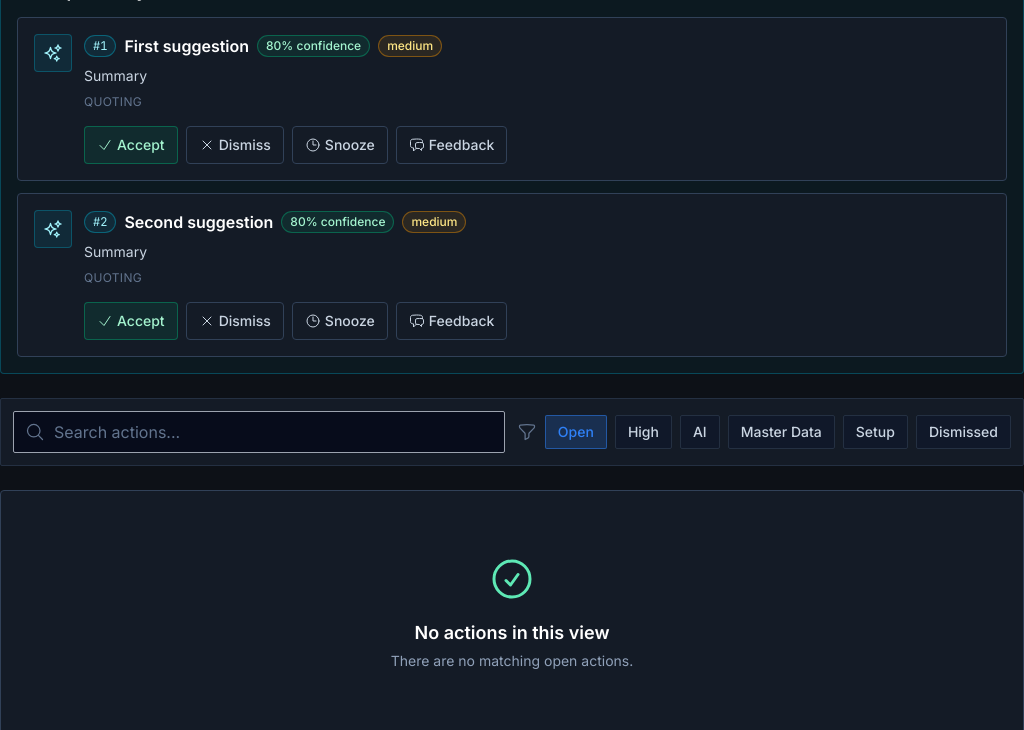
Test: ActionInbox Top 3 hero › hides the hero and folds all recommendations into the queue when the AI filter is active
(page scrolled)
Click the button "AI": x=700, y=432 [680,414,720,448]
(page scrolled)
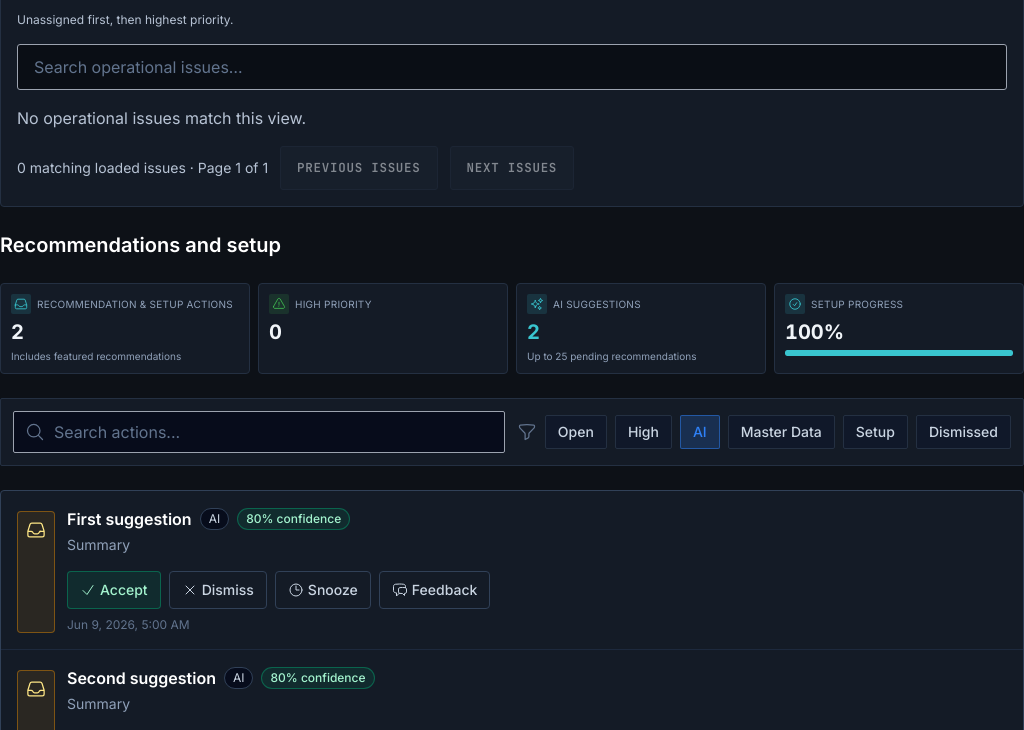
Check: the heading "First suggestion" is shown, box [67,506,192,530]
Check: the heading "No actions in this view" is gone
